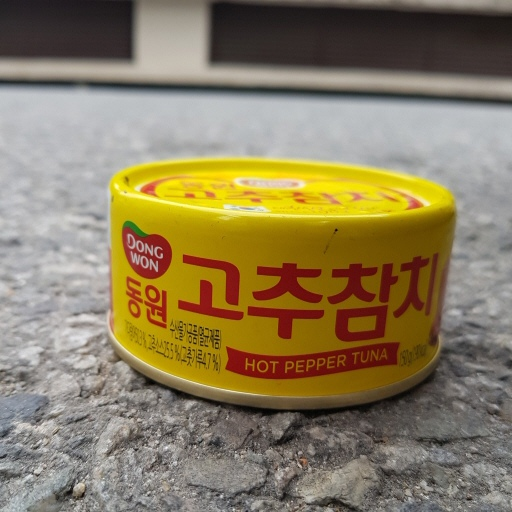Metal_1: (104, 154, 459, 407)
